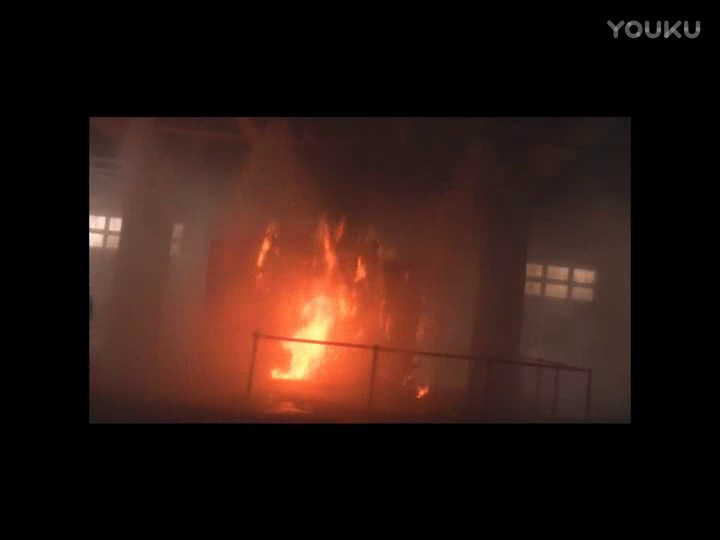fire: (267, 288, 345, 380)
